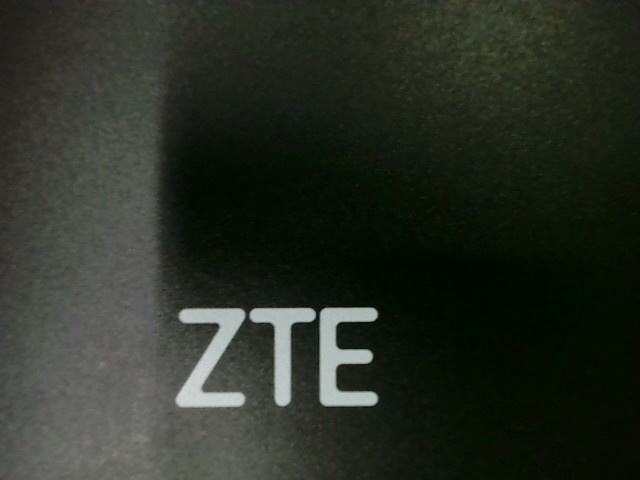AN_ZTE: (157, 298, 387, 407)
